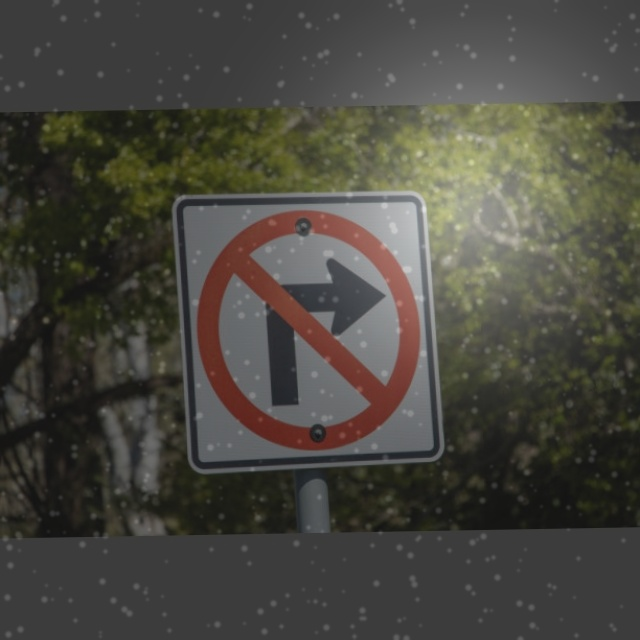Right_Turn_Prohibited: (190, 207, 431, 454)
